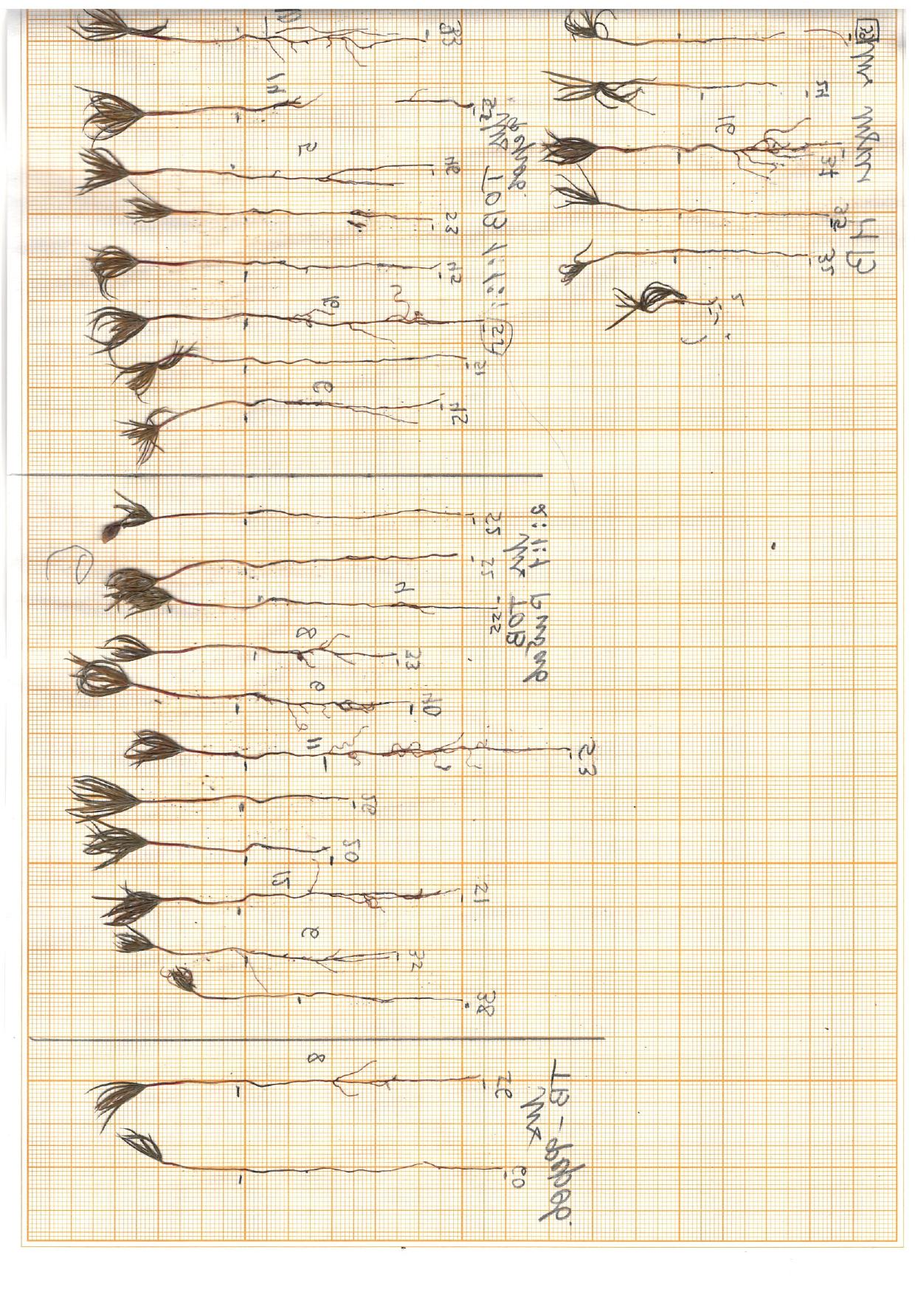root: (246, 726, 569, 773), (246, 293, 483, 345), (242, 861, 460, 912), (237, 1057, 482, 1098), (250, 17, 427, 67), (242, 690, 411, 731), (247, 392, 440, 427), (230, 160, 435, 190), (231, 945, 397, 980), (240, 1157, 504, 1178), (260, 632, 398, 670), (248, 549, 459, 571), (271, 596, 499, 616), (246, 351, 467, 370), (247, 506, 467, 523), (245, 258, 443, 274), (245, 207, 434, 222), (300, 988, 463, 1004), (238, 91, 323, 118), (245, 793, 351, 807), (245, 841, 331, 855)
seeding: (110, 339, 200, 405), (540, 68, 655, 115), (602, 283, 689, 333), (65, 773, 142, 826), (77, 82, 143, 143), (116, 407, 176, 469), (67, 9, 168, 44), (79, 821, 147, 872), (82, 305, 148, 356), (84, 239, 139, 300), (98, 487, 153, 546), (91, 882, 163, 927), (90, 1079, 146, 1134), (67, 653, 130, 699), (121, 727, 188, 770), (72, 147, 132, 194), (547, 166, 600, 211), (537, 127, 597, 166), (121, 181, 172, 226), (557, 8, 616, 43), (557, 237, 596, 288), (110, 1127, 166, 1160), (101, 632, 155, 662), (109, 924, 156, 954), (157, 963, 196, 994)
stem: (158, 399, 245, 429), (132, 680, 234, 703), (156, 557, 245, 583), (153, 643, 255, 659), (142, 104, 237, 121), (148, 839, 245, 855), (129, 32, 248, 45), (142, 792, 243, 807), (596, 246, 674, 265), (148, 310, 245, 325), (647, 297, 718, 317), (174, 598, 270, 611), (195, 991, 297, 1003), (147, 1076, 236, 1089), (601, 201, 680, 215), (153, 510, 245, 522), (130, 167, 230, 178), (597, 33, 678, 46), (162, 1160, 239, 1173), (155, 944, 230, 957), (138, 258, 244, 267), (597, 143, 678, 154), (158, 353, 244, 363), (607, 79, 701, 88), (162, 895, 237, 906), (182, 747, 244, 760), (172, 208, 244, 217)
